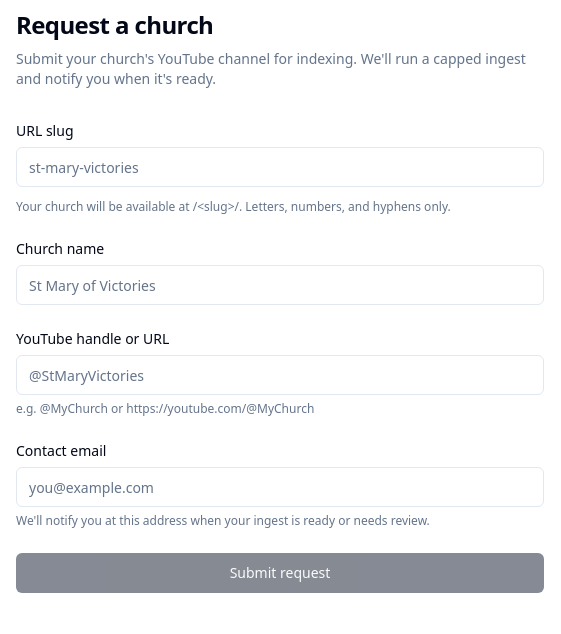
IngestPage › slug availability › shows taken error when slug check returns taken
In the field labelled "URL slug": (280, 167) [16,147,544,187], type "taken-slug"
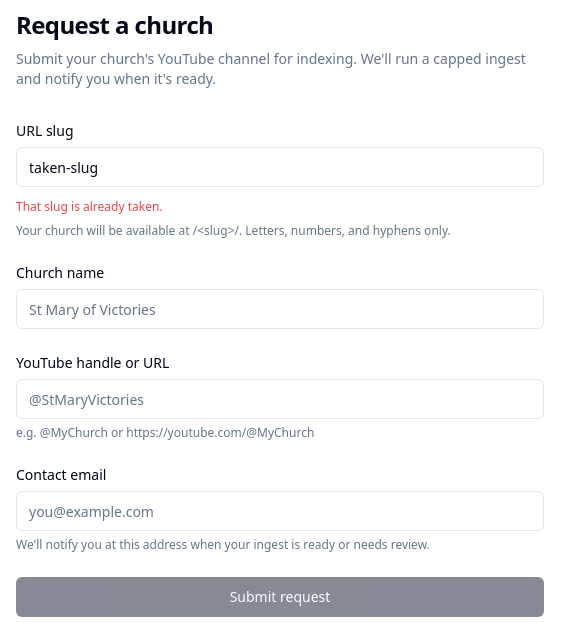
Expected: the text "That slug is already taken." is shown, [16,198,162,215]
